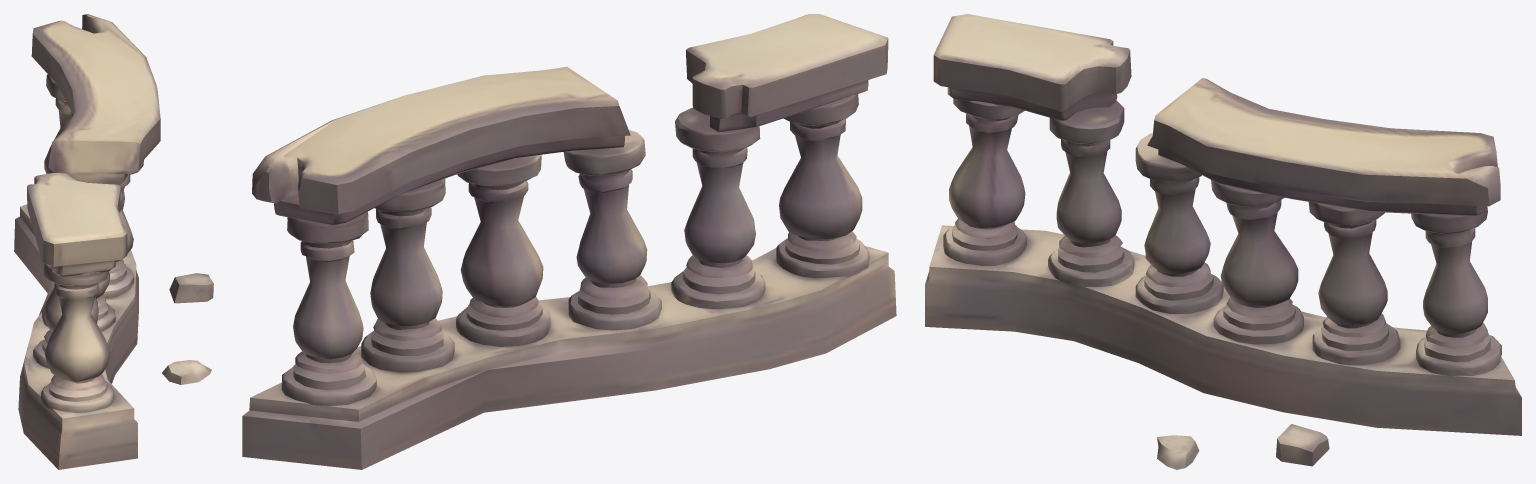
The model's file is SM_RuinBalustrade_01.fbx.
3 renders of one model, left to right at view 1: azimuth 30°, elevation 25°; view 2: azimuth 150°, elevation 25°; view 3: azimuth 270°, elevation 25°, orthographic. The views are drawn at different scales.
Parts seen in each view (by area): view 1: SM_RuinBalustrade_01; view 2: SM_RuinBalustrade_01; view 3: SM_RuinBalustrade_01.
Part boxes in pixels (x1,y1,x2,y2): SM_RuinBalustrade_01: (14, 14, 213, 469); SM_RuinBalustrade_01: (242, 14, 896, 469); SM_RuinBalustrade_01: (925, 14, 1521, 469).
Bounding box in the file's own units: 54.06 × 43.18 × 75.29.
Materials: 1 (1 with a texture image).
